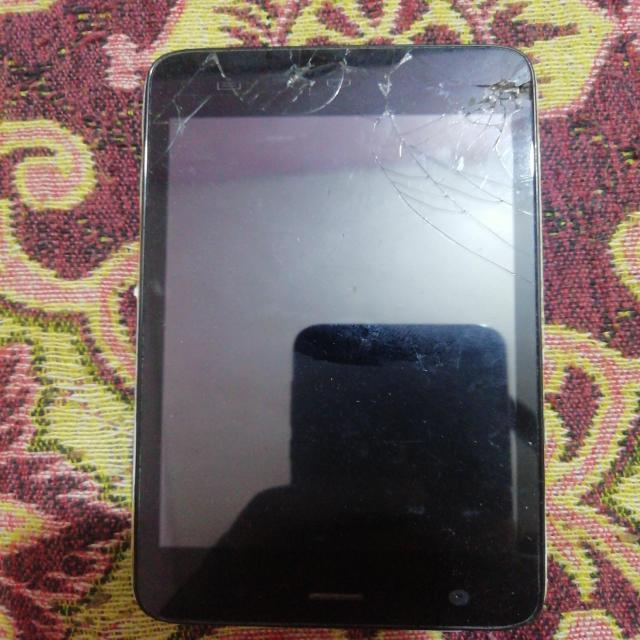mobile: (113, 26, 578, 628)
